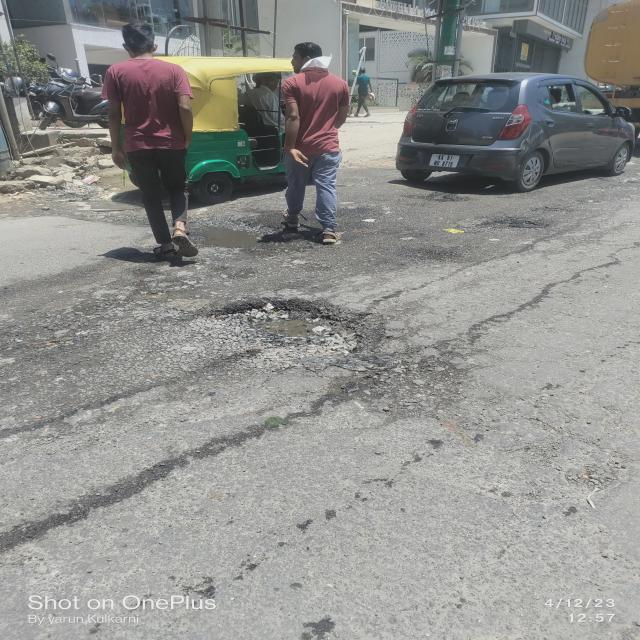potholes: (192, 298, 340, 347), (186, 213, 274, 257), (69, 204, 140, 226), (406, 242, 465, 262), (487, 214, 540, 232), (482, 180, 500, 192)
